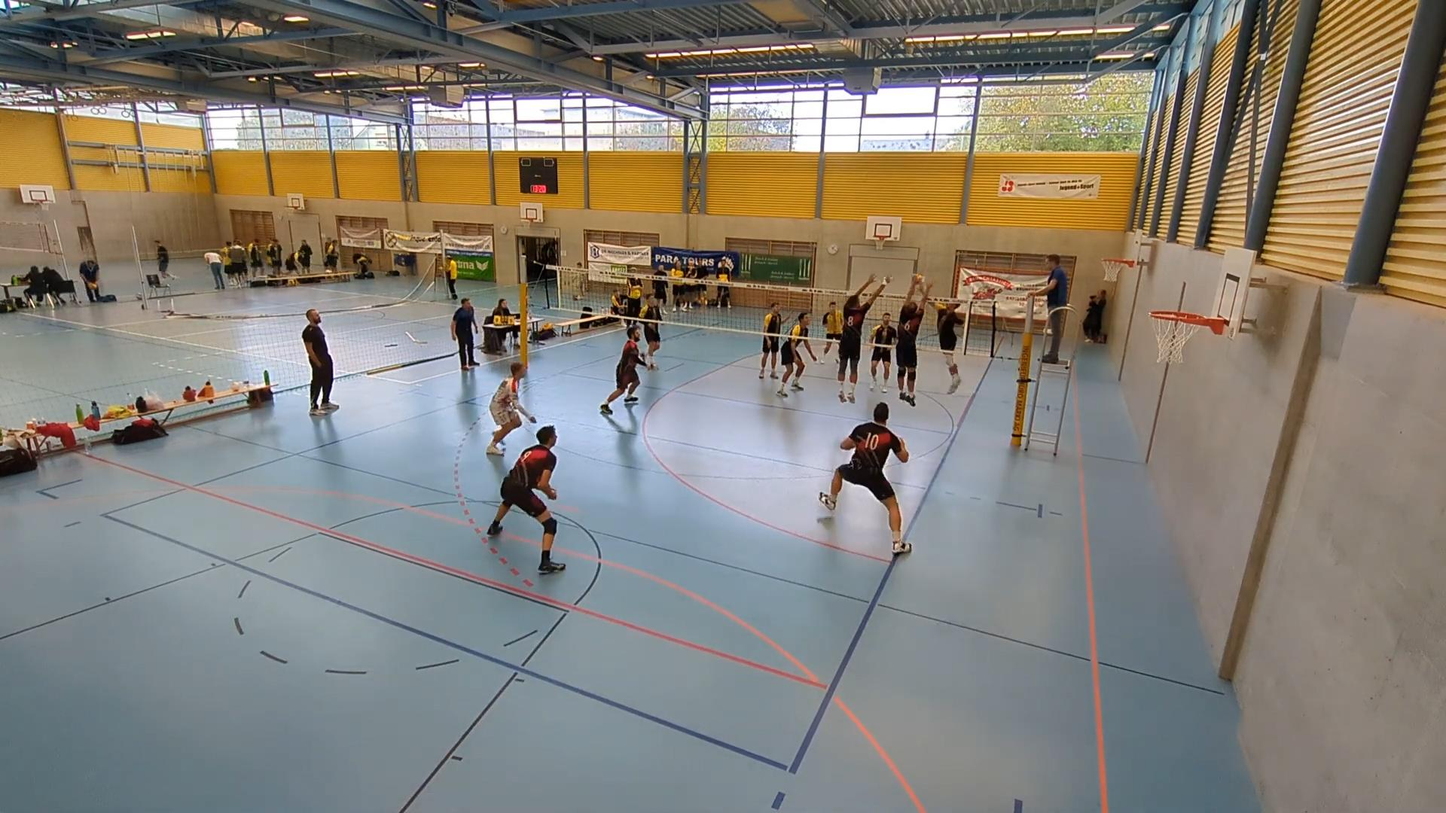Attack: (914, 276, 969, 398)
Block: (834, 273, 890, 413), (892, 268, 933, 405)
Player: (819, 402, 911, 555), (487, 425, 565, 574), (486, 361, 535, 455), (600, 324, 642, 414), (777, 312, 817, 397), (870, 313, 896, 392), (758, 302, 782, 379), (639, 297, 662, 370), (823, 301, 842, 356)
